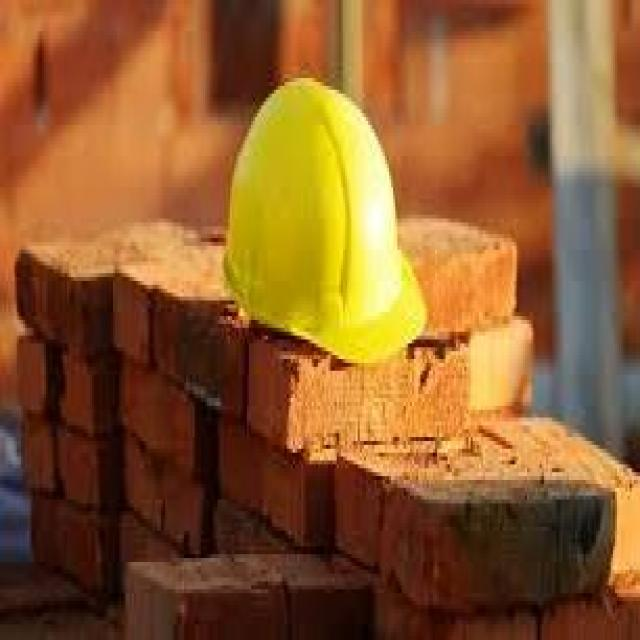Safety-Helmet: (217, 66, 428, 375)
